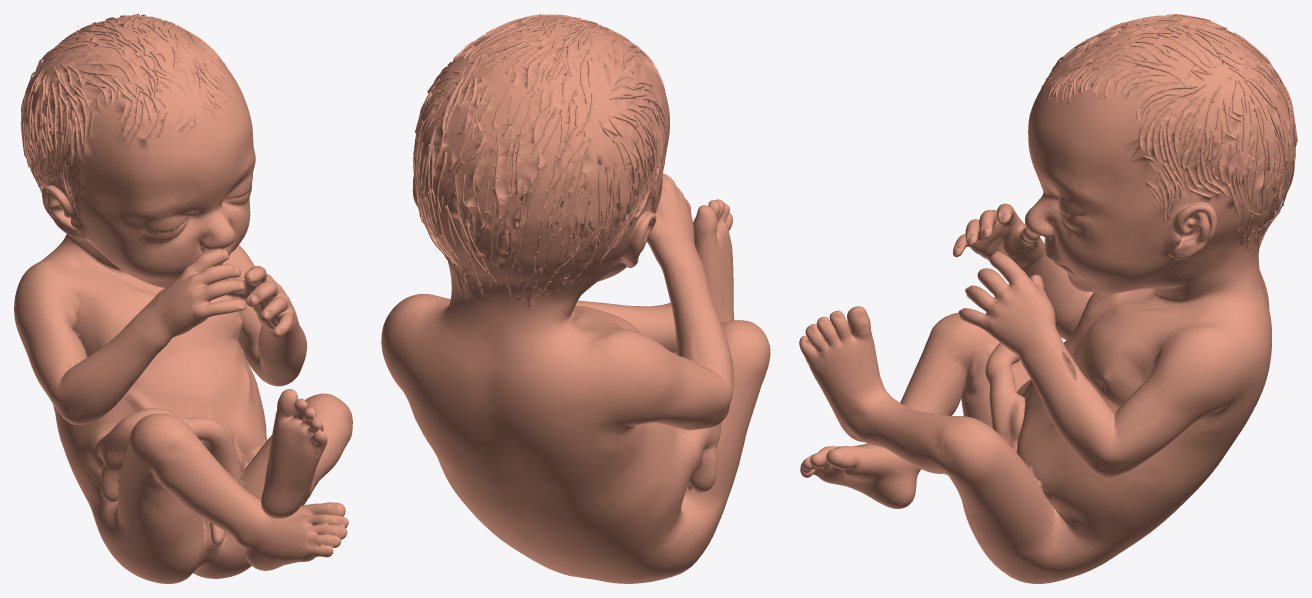
The model's file is semaine-26.glb.
3 views of the same model, side by side, from view 1: azimuth 30°, elevation 25°; view 2: azimuth 150°, elevation 25°; view 3: azimuth 270°, elevation 25° (orthographic). The views are drawn at different scales.
Bounding box in the file's own units: 1.02 × 1.9 × 1.59.
